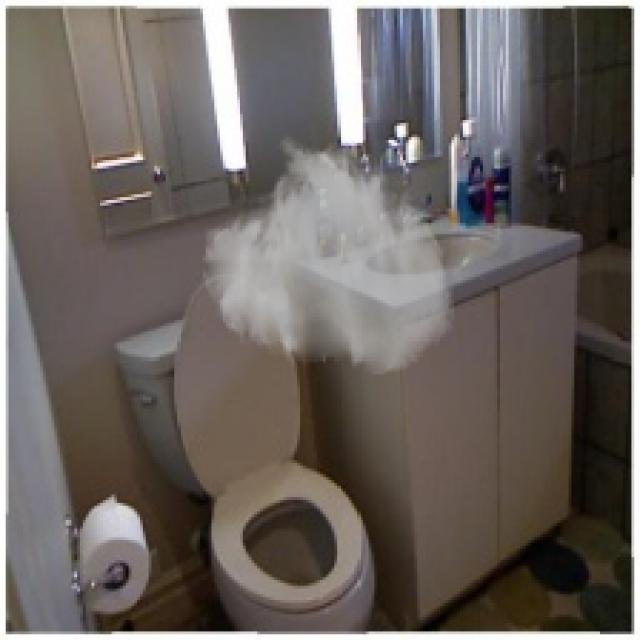smoke: (200, 134, 457, 377)
